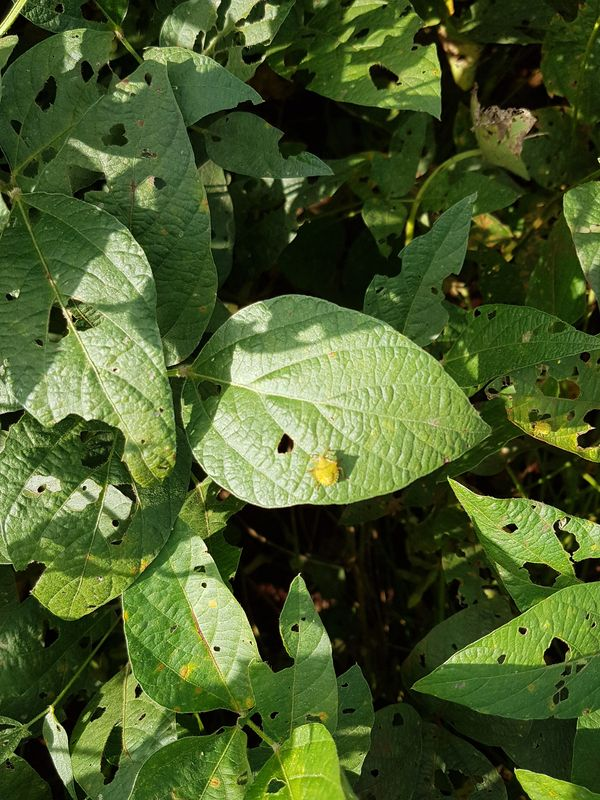Euschistus_heros_ninfa: (297, 443, 354, 498)
